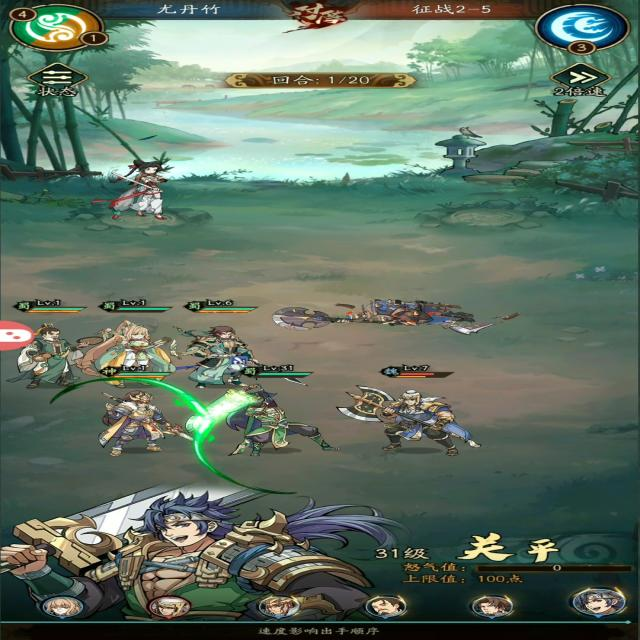hint-guide: (247, 619, 407, 640)
operation-fightspeed: (549, 66, 620, 103)
operation-status: (20, 61, 100, 103)
